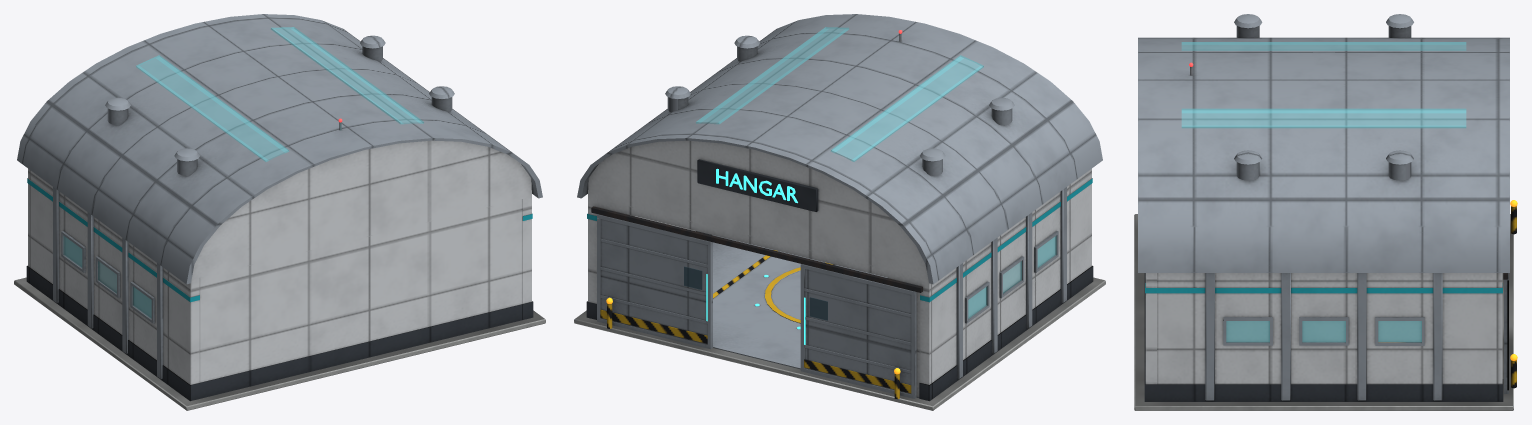
File: hangar_principal.fbx
3 renders of one model, left to right at view 1: azimuth 30°, elevation 25°; view 2: azimuth 150°, elevation 25°; view 3: azimuth 270°, elevation 25°, orthographic. The views are drawn at different scales.
Visible parts, largest first — view 1: hangar_principal, hangar_principal_cristal; view 2: hangar_principal, hangar_principal_porton_der, hangar_principal_porton_izq, hangar_principal_cristal, hangar_principal_neon; view 3: hangar_principal, hangar_principal_cristal, hangar_principal_porton_izq.
Boxes of the visible parts, <box> form: hangar_principal: <box>14,14,545,410</box>; hangar_principal_cristal: <box>63,27,423,318</box>; hangar_principal: <box>574,14,1105,410</box>; hangar_principal_porton_der: <box>800,264,916,398</box>; hangar_principal_porton_izq: <box>597,214,712,349</box>; hangar_principal_cristal: <box>684,27,1056,320</box>; hangar_principal_neon: <box>706,168,805,344</box>; hangar_principal: <box>1134,14,1516,410</box>; hangar_principal_cristal: <box>1181,42,1466,342</box>; hangar_principal_porton_izq: <box>1504,273,1508,393</box>.
Size of the model in its own units: 24 by 14.67 by 20.2.
3 materials, 3 textured.
